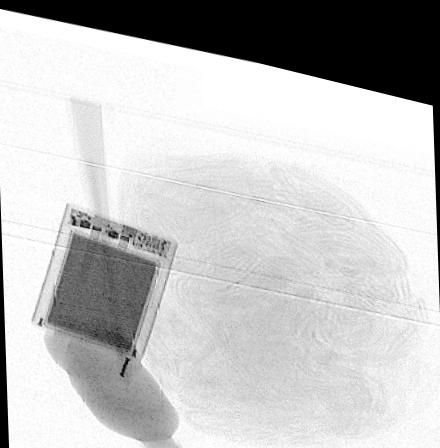Powerbank: (27, 197, 178, 354)
